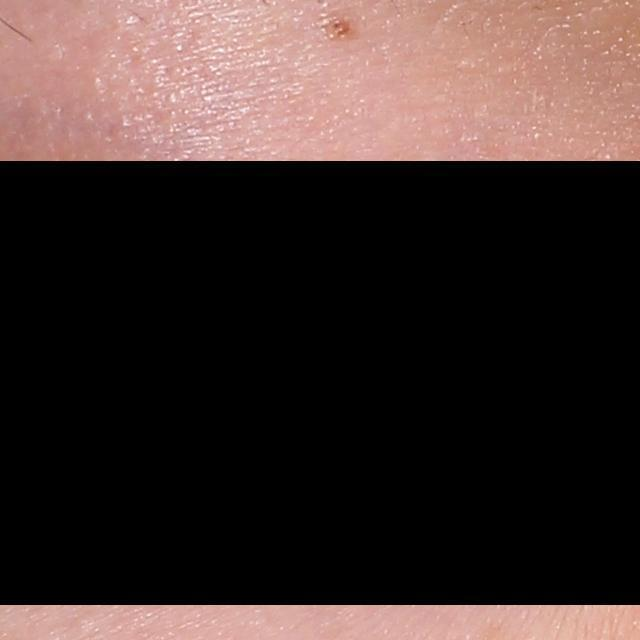nevus: (331, 14, 358, 46)
